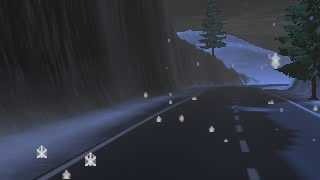Lane: (41, 84, 319, 179)
